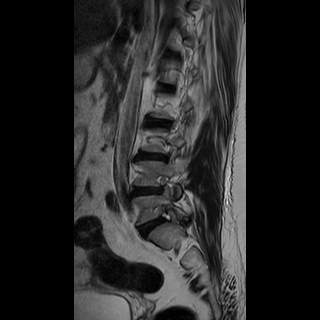RFS3: (151, 171, 176, 202)
